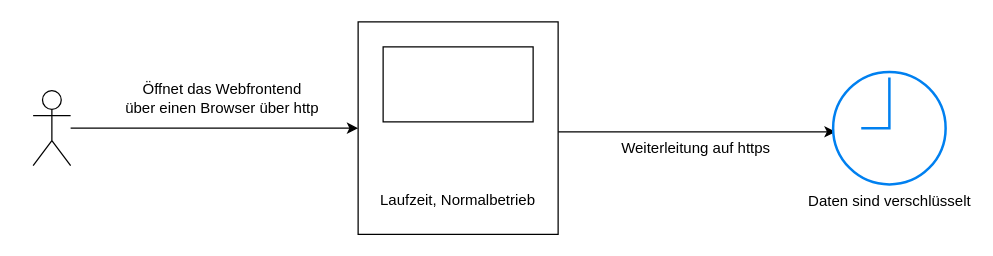
This 993x256 diagram has some shape labels left out. Here are the shapes that lost their labels. From the top down, the box of each, then its label:
(382, 46, 533, 122): Frontend
(32, 89, 71, 166): Benutzer
